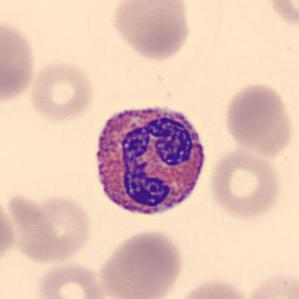Eosinophil: (87, 96, 212, 225)
RBC: (4, 191, 95, 265), (96, 228, 186, 299), (207, 146, 282, 221), (222, 80, 294, 155), (110, 0, 194, 63), (28, 58, 96, 125), (0, 17, 38, 106), (36, 259, 108, 299), (173, 275, 252, 299), (242, 268, 298, 299), (0, 191, 17, 268), (263, 0, 299, 29)
